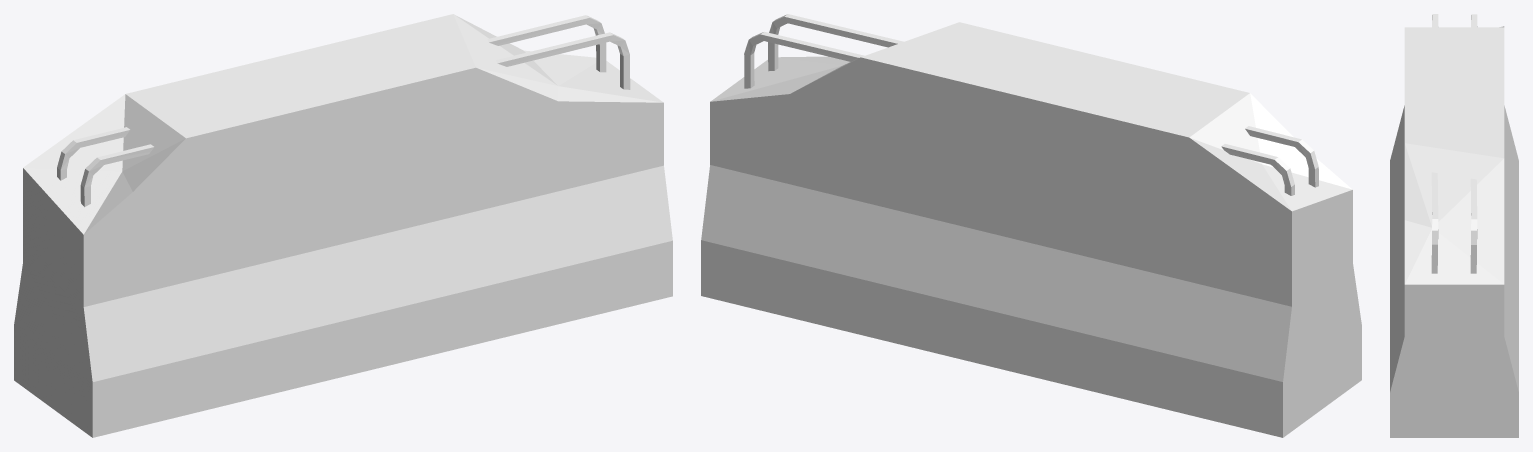
The model's file is Bourbon.dae.
3 views of the same model, side by side, from view 1: azimuth 30°, elevation 25°; view 2: azimuth 150°, elevation 25°; view 3: azimuth 270°, elevation 25° (orthographic). The views are drawn at different scales.
Parts seen in each view (by area): view 1: road_barrier_2; view 2: road_barrier_2; view 3: road_barrier_2.
Part boxes in pixels (x1,y1,x2,y2): road_barrier_2: (14,14,672,437); road_barrier_2: (701,14,1361,437); road_barrier_2: (1390,14,1518,437).
Size of the model in its own units: 2.03 by 0.8948 by 0.4754.
